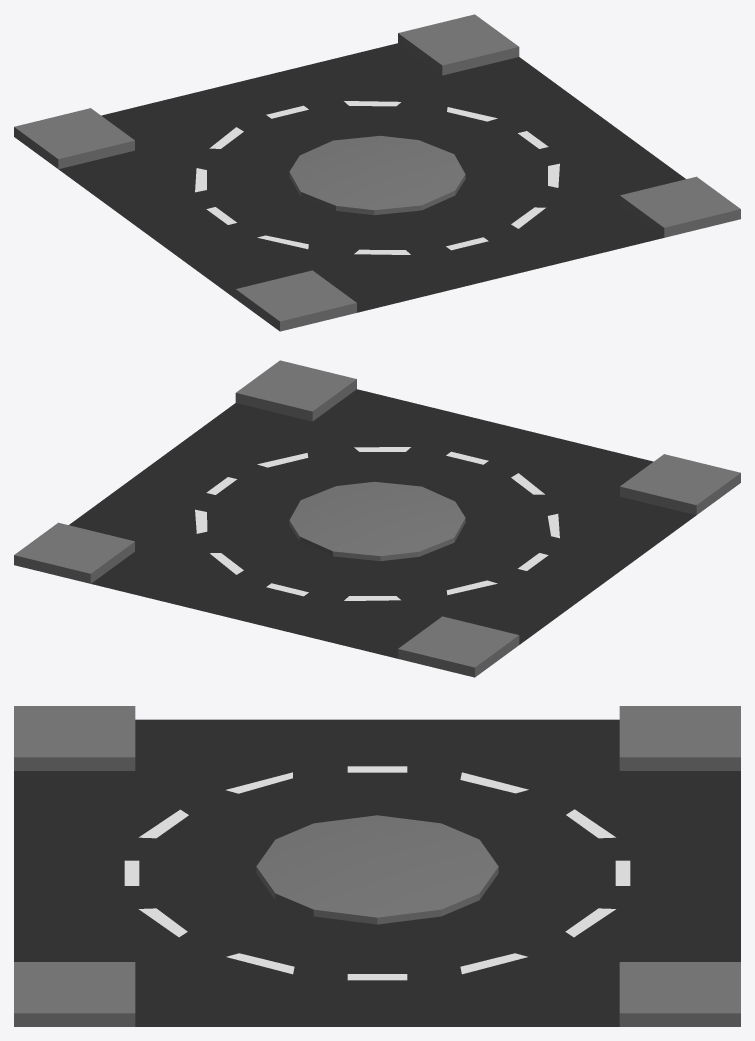
Rendered from RoadRoundabout.fbx.
The picture shows the model from 3 angles, top to bottom: view 1: azimuth 30°, elevation 25°; view 2: azimuth 150°, elevation 25°; view 3: azimuth 270°, elevation 25°; orthographic projection. The views are drawn at different scales.
Parts seen in each view (by area): view 1: RoadRoundabout; view 2: RoadRoundabout; view 3: RoadRoundabout.
Boxes of the visible parts, bbox=[...] form: RoadRoundabout: bbox=[14, 14, 740, 331]; RoadRoundabout: bbox=[14, 360, 740, 677]; RoadRoundabout: bbox=[14, 706, 740, 1026].
Bounding box in the file's own units: 24 × 0.5 × 24.
Materials: 1 (1 with a texture image).
